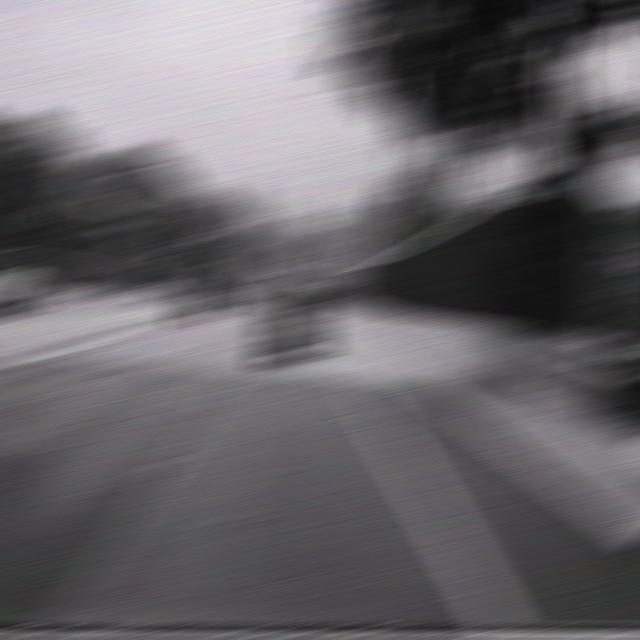pedestrianCrossing: (340, 240, 374, 268)
